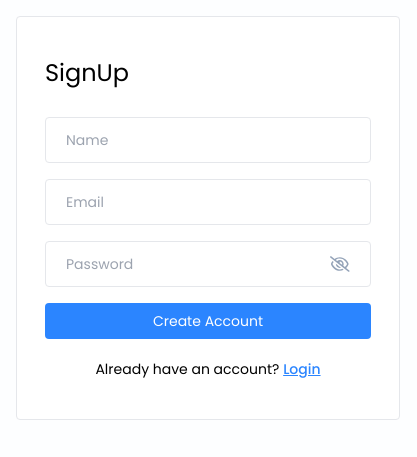
it: SignUp Component › shows error if name is empty
Type "test@example.com" into the field with placeholder "Email" at [208, 202], box [45,179,371,225]
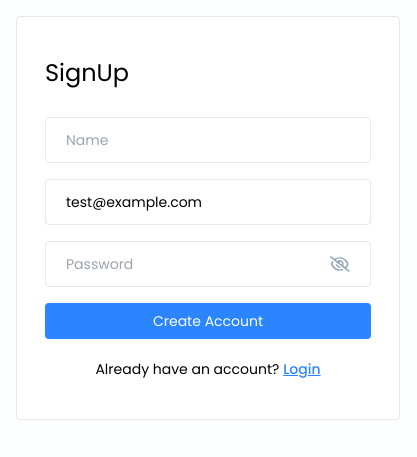
Type "123456" into the password field with placeholder "Password" at [192, 264], box [66,242,318,286]
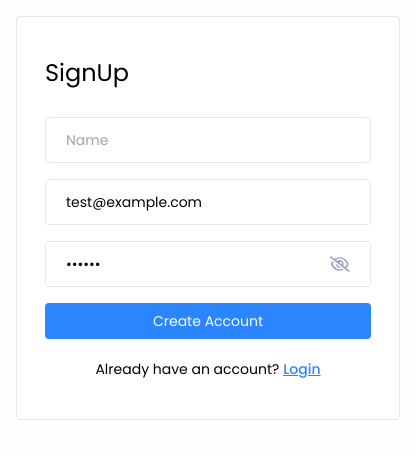
Click the button "Create Account" at [208, 321], box [45,303,371,339]
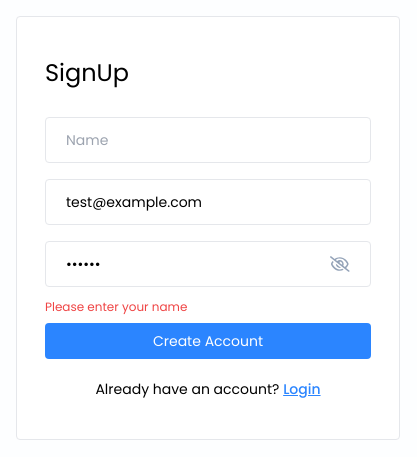
Expected: the text "Please enter your name" is shown, [45,298,187,315]
